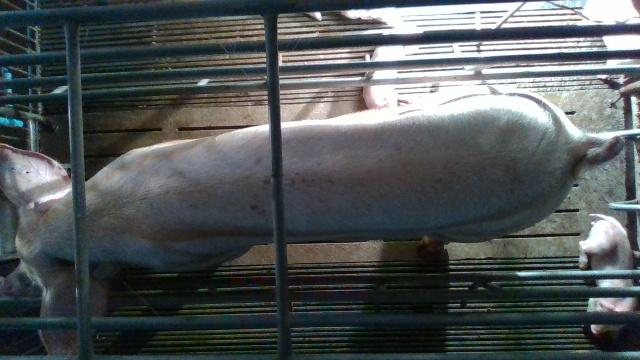piglet: (579, 211, 636, 343), (582, 0, 640, 65), (364, 45, 404, 107)
sow-stand: (0, 83, 628, 355)
